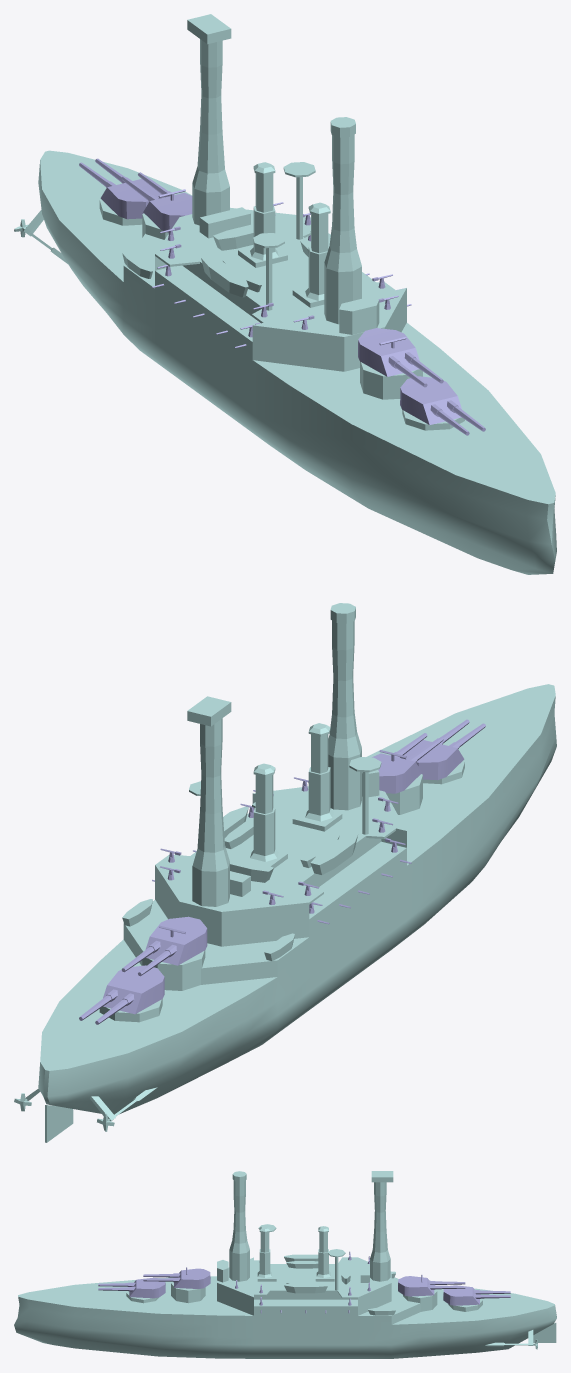
Rendered from USS_South_Carolina_1910.fbx.
3 renders of one model, top to bottom at view 1: azimuth 30°, elevation 25°; view 2: azimuth 150°, elevation 25°; view 3: azimuth 270°, elevation 25°, orthographic. The views are drawn at different scales.
Parts seen in each view (by area): view 1: USS_South_Carolina_Hull, USS_South_Carolina_Turret2, USS_South_Carolina_Turret1, USS_South_Carolina_Turret4, USS_South_Carolina_Turret3, USS_South_Carolina_Lifeboat_R1, USS_South_Carolina_Lifeboat; view 2: USS_South_Carolina_Hull, USS_South_Carolina_Turret3, USS_South_Carolina_Turret4, USS_South_Carolina_Turret2, USS_South_Carolina_Turret1, USS_South_Carolina_Lifeboat_R1, USS_South_Carolina_Rudder, USS_South_Carolina_Lifeboat; view 3: USS_South_Carolina_Hull, USS_South_Carolina_Turret2, USS_South_Carolina_Turret3, USS_South_Carolina_Turret1, USS_South_Carolina_Turret4, USS_South_Carolina_Lifeboat_L1, USS_South_Carolina_Rudder.
Part boxes in pixels (x1,y1,x2,y2): USS_South_Carolina_Hull: (24,14,556,574); USS_South_Carolina_Turret2: (358,328,419,376); USS_South_Carolina_Turret1: (400,376,461,424); USS_South_Carolina_Turret4: (100,179,164,219); USS_South_Carolina_Turret3: (143,189,192,232); USS_South_Carolina_Lifeboat_R1: (201,255,248,297); USS_South_Carolina_Lifeboat: (213,224,253,250); USS_South_Carolina_Hull: (25,603,556,1120); USS_South_Carolina_Turret3: (145,916,207,965); USS_South_Carolina_Turret4: (103,965,164,1014); USS_South_Carolina_Turret2: (372,750,421,793); USS_South_Carolina_Turret1: (400,740,464,780); USS_South_Carolina_Lifeboat_R1: (310,833,358,874); USS_South_Carolina_Rudder: (45,1105,73,1142); USS_South_Carolina_Lifeboat: (228,855,273,882); USS_South_Carolina_Hull: (14,1171,556,1358); USS_South_Carolina_Turret2: (174,1267,210,1288); USS_South_Carolina_Turret3: (398,1275,434,1296); USS_South_Carolina_Turret1: (129,1277,165,1298); USS_South_Carolina_Turret4: (443,1285,479,1305); USS_South_Carolina_Lifeboat_L1: (284,1283,327,1293); USS_South_Carolina_Rudder: (533,1322,556,1342).
Size of the model in its own units: 282 by 483 by 1407.
